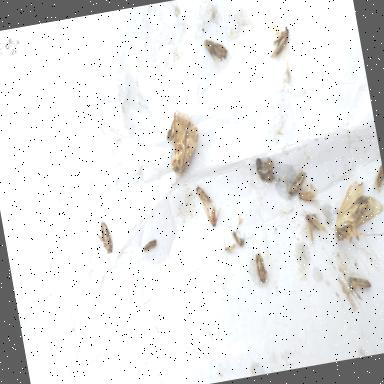abw: (326, 176, 384, 245), (160, 106, 206, 176)
pbw: (301, 210, 329, 244), (92, 220, 116, 258), (202, 35, 230, 67), (247, 252, 270, 285), (266, 20, 290, 46), (284, 170, 308, 196), (268, 33, 292, 57), (202, 202, 224, 228), (347, 271, 372, 293), (194, 182, 212, 208), (369, 162, 384, 191), (297, 188, 320, 206), (142, 239, 158, 252)
